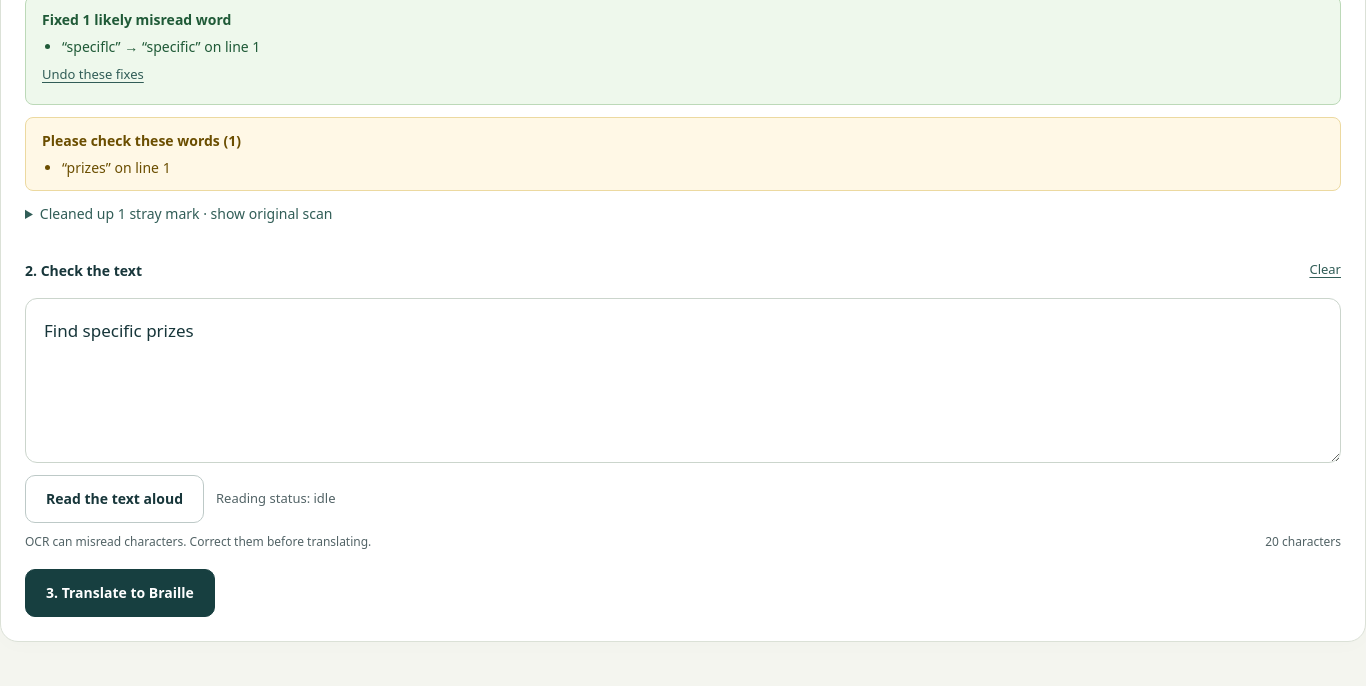
Test: CameraPanel corrections › hides the undo button once the user edits the text
Earlier steps of the test are not shown.
(page scrolled)
In the text box showing "Find specific prizes": (683, 380) [25,298,1341,463], type "!"
(page scrolled)
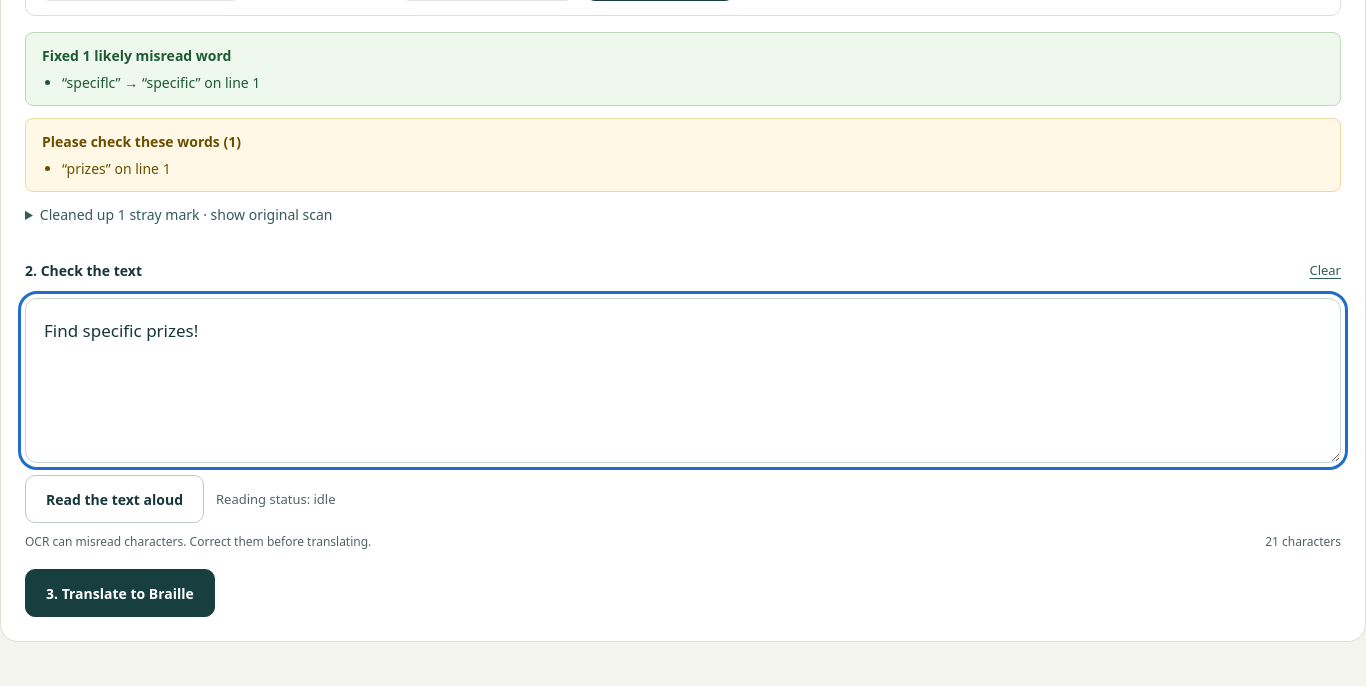
Result: the button "Undo these fixes" is gone
